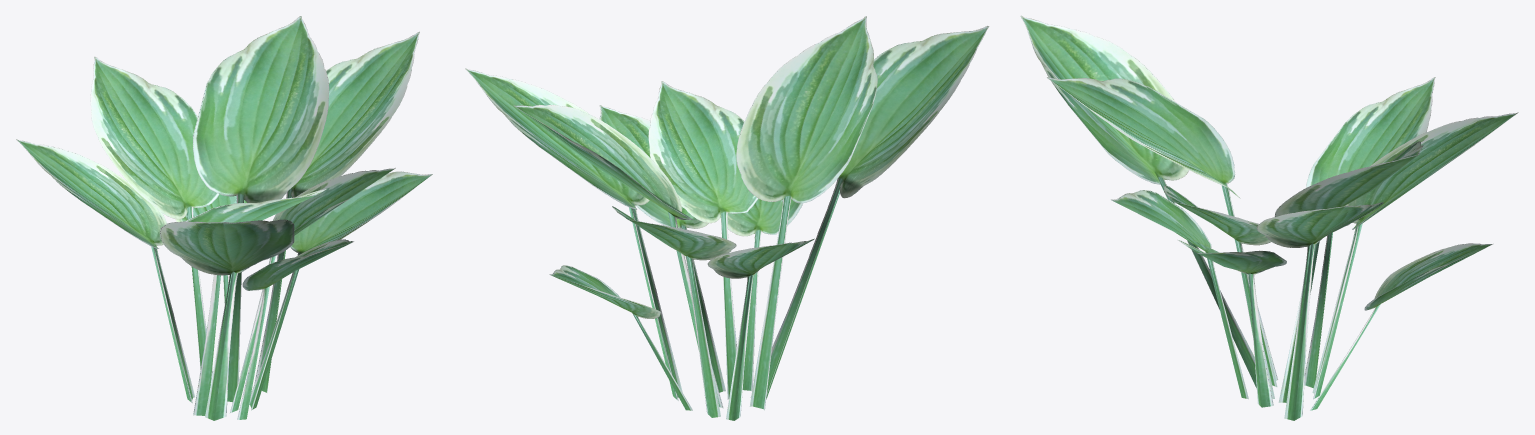
Rendered from plant_small_wg_03D.fbx.
3 views of the same model, side by side, from view 1: azimuth 30°, elevation 25°; view 2: azimuth 150°, elevation 25°; view 3: azimuth 270°, elevation 25° (orthographic). The views are drawn at different scales.
Parts seen in each view (by area): view 1: plant_small_wg_03D; view 2: plant_small_wg_03D; view 3: plant_small_wg_03D.
Part boxes in pixels (<box>): plant_small_wg_03D: <box>16,16,432,420</box>; plant_small_wg_03D: <box>465,16,989,420</box>; plant_small_wg_03D: <box>1020,15,1518,420</box>.
Size of the model in its own units: 59 by 46.87 by 67.
